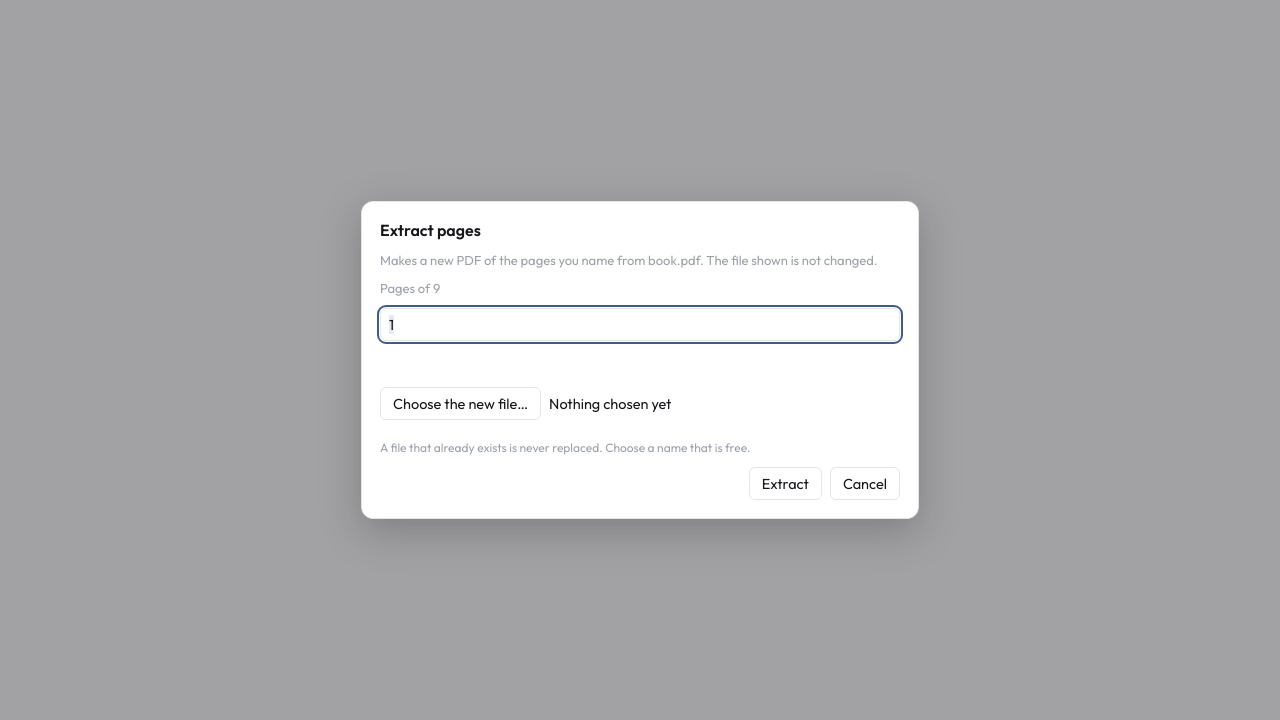
Test: a_chooser_that_fails_says_why
Click the button "Choose the new file…".
click(461, 404)  # box left=380, top=387, right=541, bottom=420
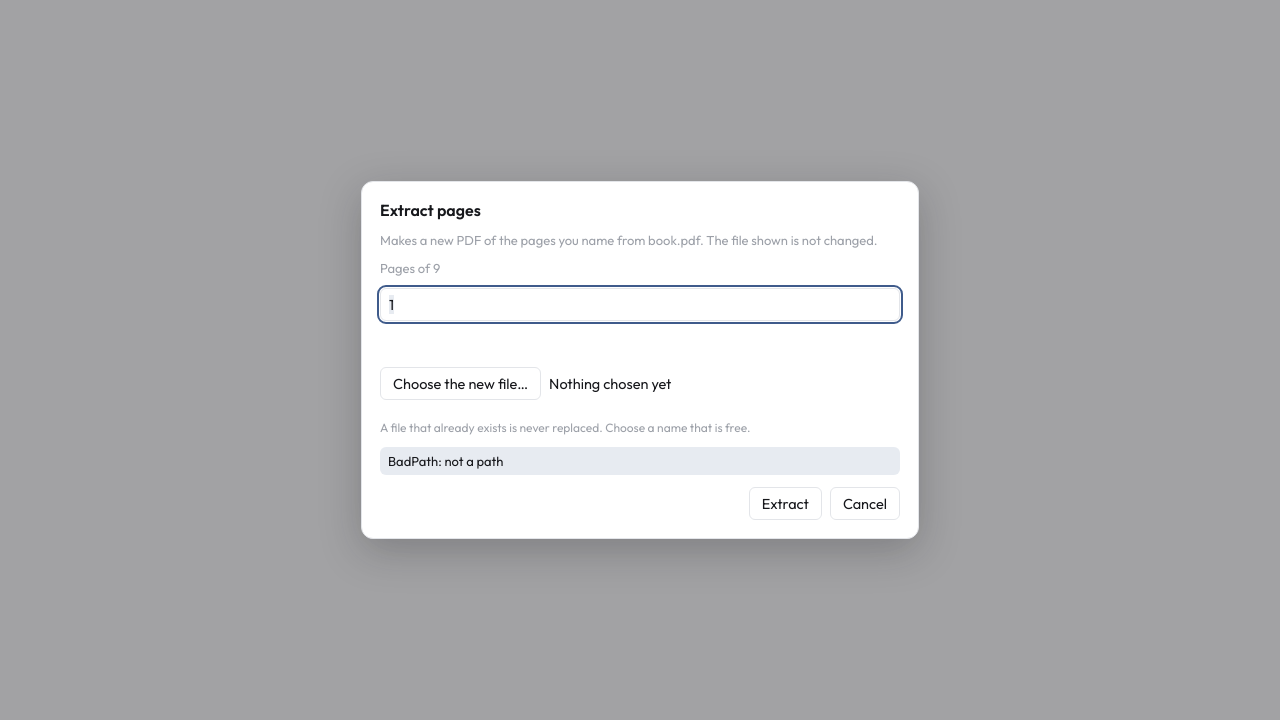
expect the message shows "BadPath": met, box left=388, top=453, right=504, bottom=469
